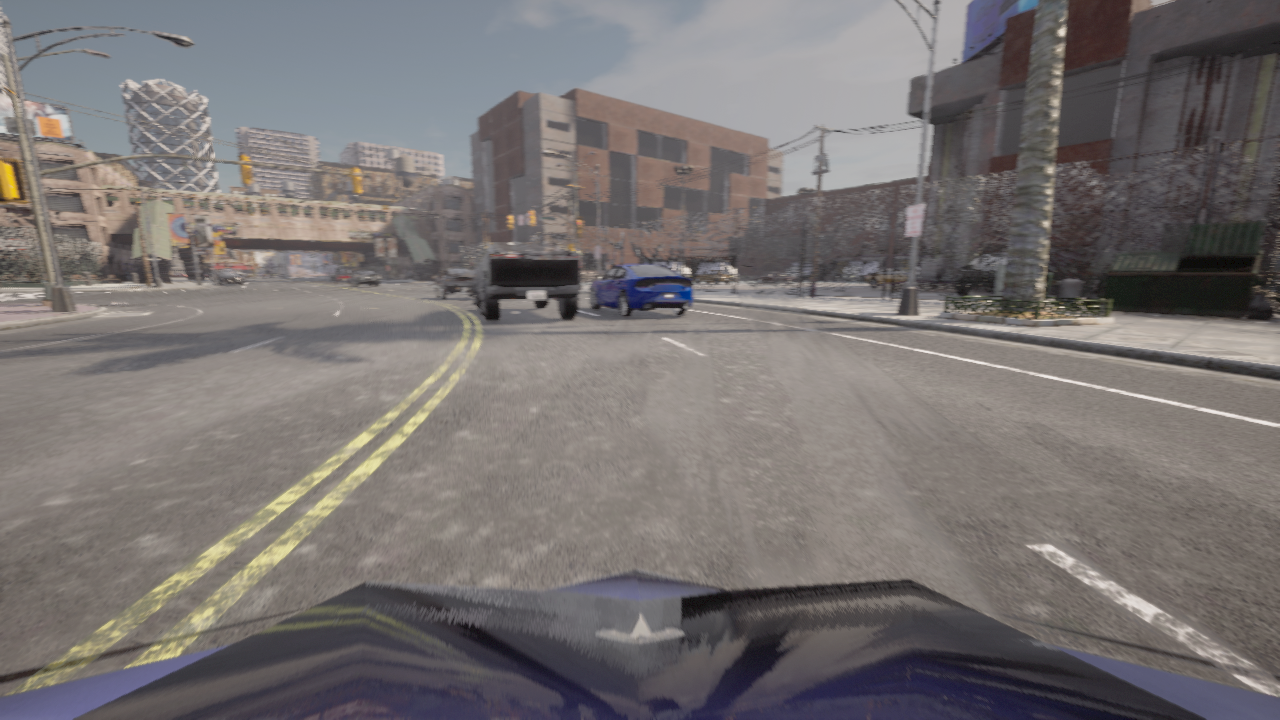cyclist: (0, 569, 1279, 719), (471, 242, 580, 320), (590, 262, 693, 316), (956, 252, 1050, 295), (432, 267, 474, 299), (865, 269, 908, 286), (696, 262, 735, 280), (843, 261, 877, 281), (786, 262, 819, 280), (657, 261, 690, 277), (694, 270, 730, 284), (349, 270, 378, 287), (754, 272, 795, 283), (217, 271, 242, 285), (218, 269, 242, 280), (331, 271, 350, 284), (239, 272, 246, 282), (348, 269, 359, 274), (172, 273, 185, 277), (377, 275, 380, 282), (915, 266, 918, 270), (915, 270, 918, 274), (258, 273, 261, 276), (205, 274, 208, 277), (386, 274, 387, 279), (267, 274, 269, 276), (263, 274, 264, 276)
